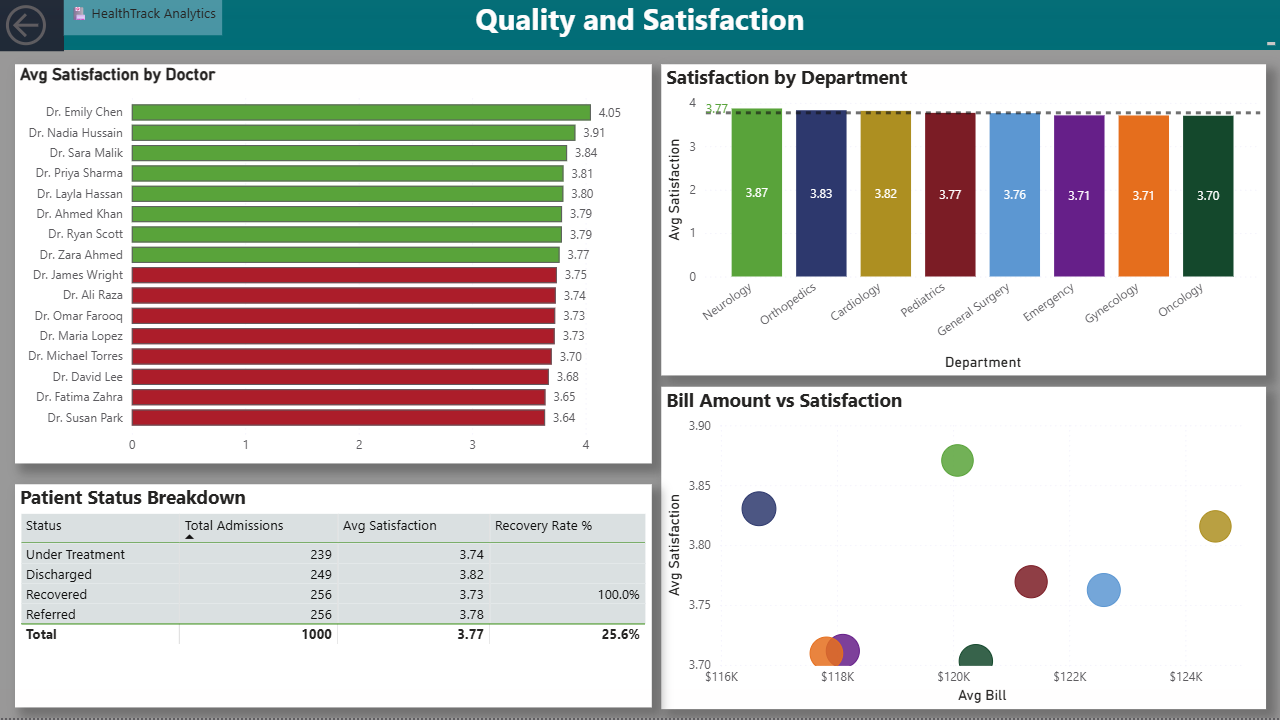

The page's visual inventory and layout, read from the dashboard file:
{"tool":"powerbi","page":{"name":"Quality & Satisfaction","canvas":[1280,720],"ordinal":3},"visuals":[{"type":"textbox","title":"Quality and Satisfaction","box":[0,0,1280,51.9],"z":0},{"type":"barChart","fields":{"Category":["Admissions.Doctor"],"Y":["_Measures.Avg Satisfaction"]},"box":[14.4,66.2,636.5,398.9],"z":1000},{"type":"columnChart","title":"Satisfaction by Department","fields":{"Category":["Admissions.Department"],"Y":["_Measures.Avg Satisfaction"],"Series":["Admissions.Department"]},"box":[661.1,66.4,604.4,311.3],"z":2000},{"type":"scatterChart","title":"Bill Amount vs Satisfaction","fields":{"X":["_Measures.Avg Bill"],"Y":["_Measures.Avg Satisfaction"],"Size":["_Measures.Total Admissions"],"Series":["Admissions.Department"],"Category":["Admissions.Department"]},"box":[661.1,388.5,604.4,322.1],"z":3000},{"type":"tableEx","title":"Patient Status Breakdown","fields":{"Values":["Admissions.Status","_Measures.Total Admissions","_Measures.Avg Satisfaction","_Measures.Recovery Rate %"]},"box":[14.4,486.7,636.5,223.2],"z":4000},{"type":"actionButton","box":[0,1.2,63.9,51.9],"z":5000},{"type":"textbox","box":[63.9,1.2,158,36.2],"z":6000}]}

Visuals, with their boxes on the page's 1280x720 design canvas (x1, y1, x2, y2). These are canvas units, not pixel positions in the 1280x720 screenshot, which may show the page scaled, cropped or inside an application window:
"Quality and Satisfaction" textbox: locate(0, 0, 1280, 52)
barChart - Admissions.Doctor x _Measures.Avg Satisfaction: locate(14, 66, 651, 465)
"Satisfaction by Department" columnChart: locate(661, 66, 1266, 378)
"Bill Amount vs Satisfaction" scatterChart: locate(661, 388, 1266, 711)
"Patient Status Breakdown" tableEx: locate(14, 487, 651, 710)
actionButton: locate(0, 1, 64, 53)
textbox: locate(64, 1, 222, 37)
